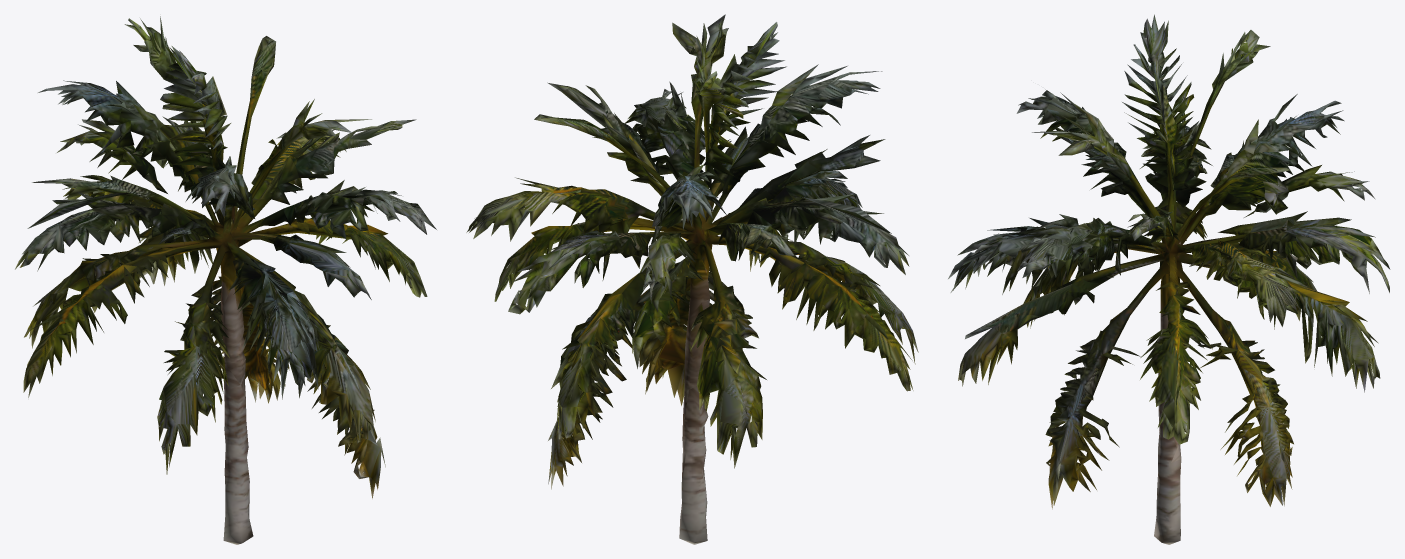
Rendered from buko tree.fbx.
3 views of the same model, side by side, from view 1: azimuth 30°, elevation 25°; view 2: azimuth 150°, elevation 25°; view 3: azimuth 270°, elevation 25° (orthographic). The views are drawn at different scales.
Parts seen in each view (by area): view 1: meshes[0]; view 2: meshes[0]; view 3: meshes[0].
Part boxes in pixels (bbox=[...]): meshes[0]: bbox=[15, 16, 436, 544]; meshes[0]: bbox=[466, 14, 918, 544]; meshes[0]: bbox=[948, 14, 1390, 544].
Size of the model in its own units: 283 by 350 by 283.
Materials: 1 (1 with a texture image).
